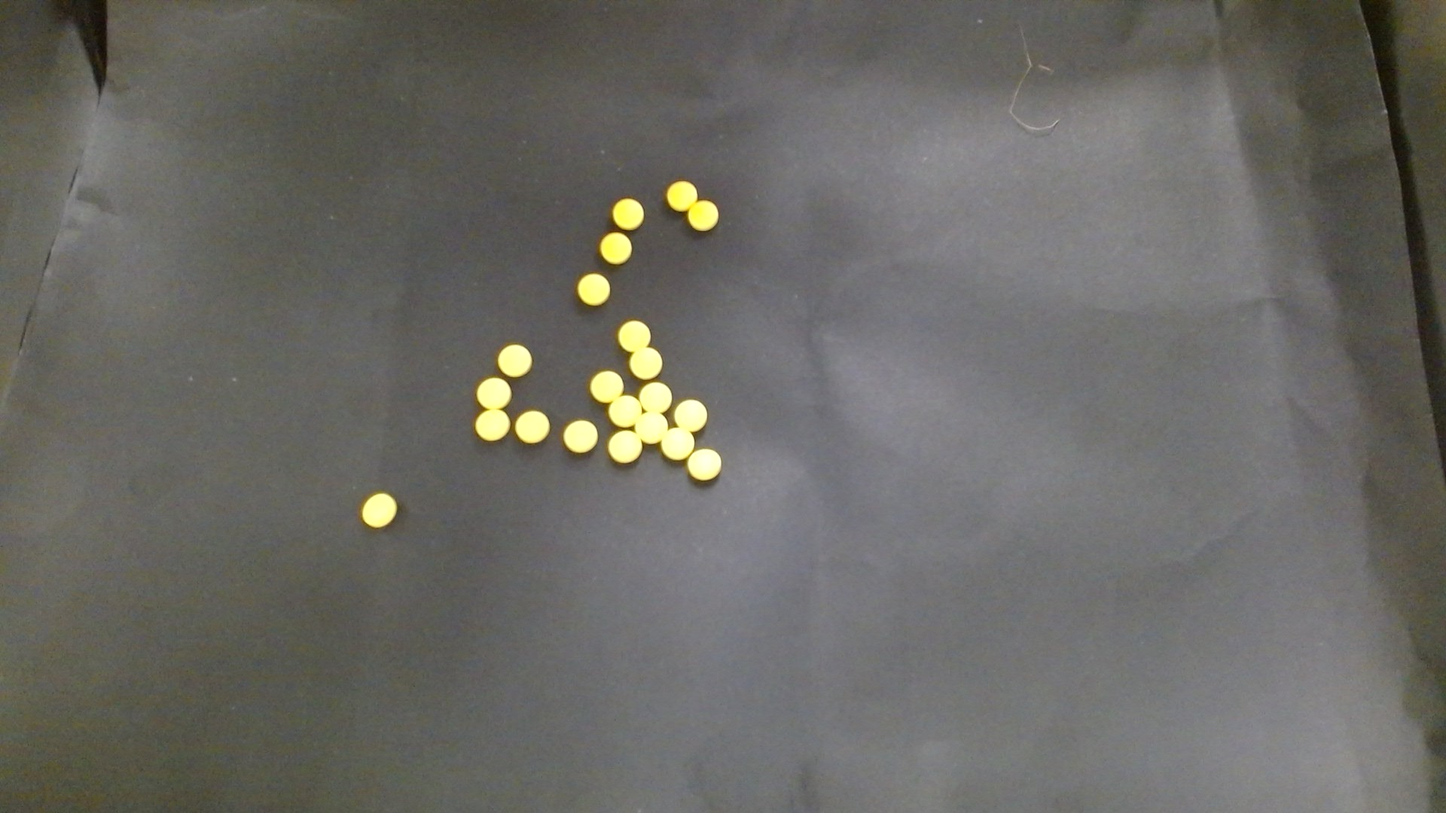Circle: (359, 491, 401, 529), (575, 271, 610, 306), (515, 410, 550, 444), (474, 408, 509, 442), (673, 398, 707, 433), (476, 376, 511, 410), (563, 419, 597, 453), (497, 343, 532, 376), (660, 428, 694, 461), (617, 319, 651, 352), (608, 431, 641, 464), (687, 449, 720, 482), (589, 370, 622, 403), (609, 395, 641, 428), (639, 381, 672, 413), (630, 346, 662, 379), (612, 197, 644, 230), (636, 411, 668, 443), (666, 180, 697, 212), (600, 233, 631, 263), (688, 199, 718, 230)
